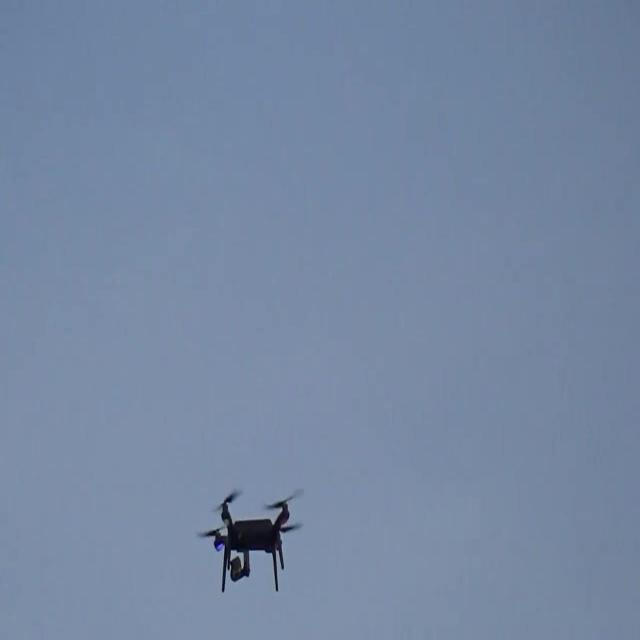UAV: (198, 488, 302, 594)
